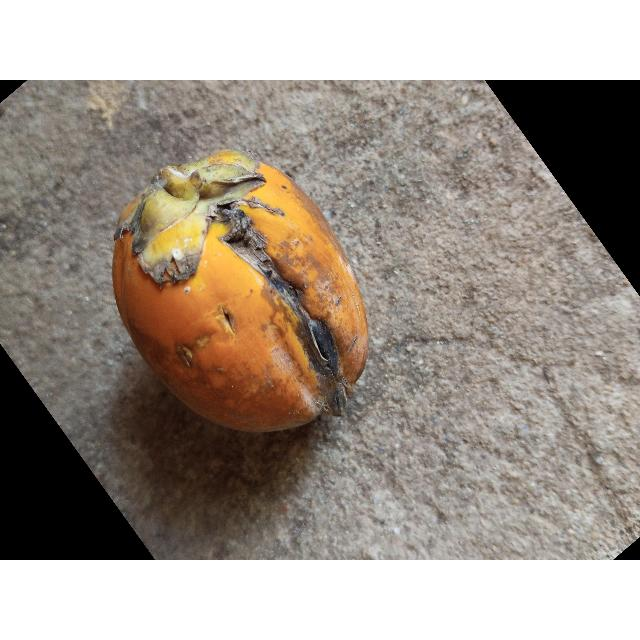damaged: (112, 149, 368, 432)
